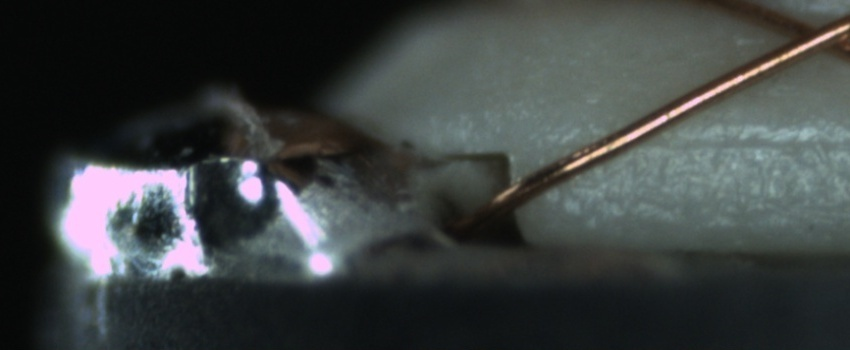CL: (767, 4, 850, 65)
DL: (632, 110, 849, 171)
